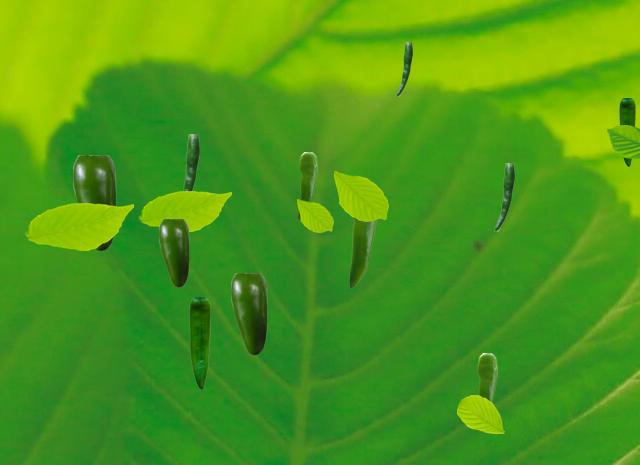green_chili: (73, 155, 115, 250), (231, 273, 266, 354), (159, 219, 188, 286), (349, 218, 376, 287), (189, 297, 209, 388), (494, 163, 513, 230), (298, 152, 316, 219), (619, 98, 634, 165), (477, 353, 496, 402), (183, 134, 198, 190), (396, 42, 411, 95)
